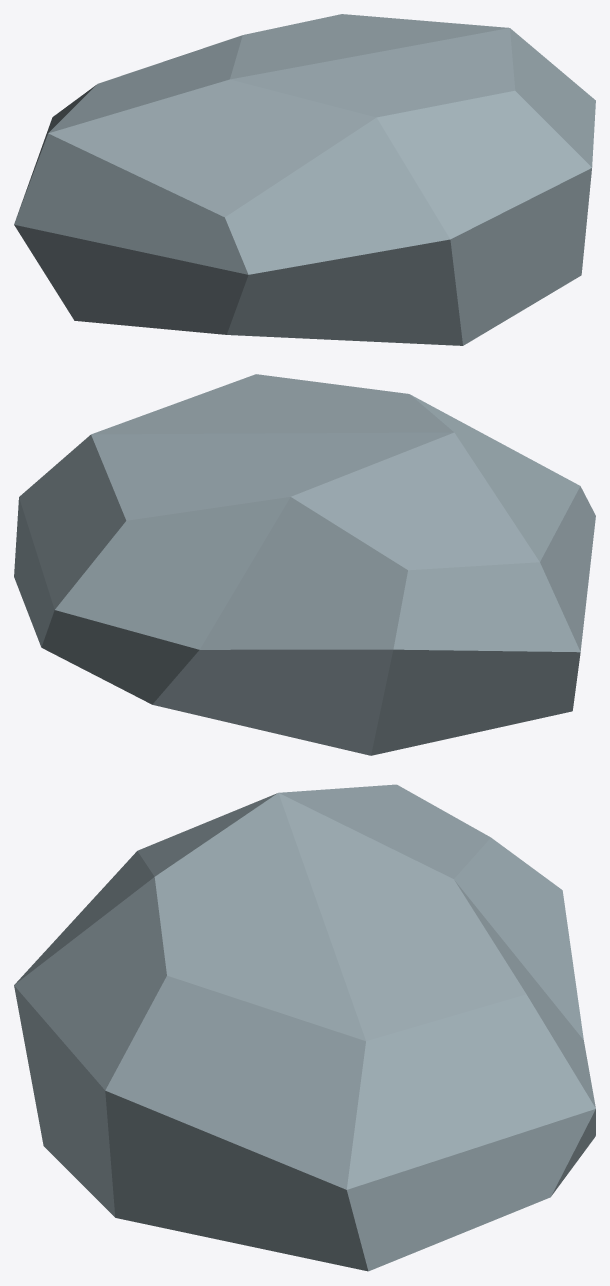
Rendered from Stein1.fbx.
The picture shows the model from 3 angles, top to bottom: view 1: azimuth 30°, elevation 25°; view 2: azimuth 150°, elevation 25°; view 3: azimuth 270°, elevation 25°; orthographic projection. The views are drawn at different scales.
Parts seen in each view (by area): view 1: Stein1; view 2: Stein1; view 3: Stein1.
Boxes of the visible parts, x1,y1,x2,y2 form: Stein1: (14,14,595,345); Stein1: (14,374,595,755); Stein1: (14,784,595,1271).
Bounding box in the file's own units: 3.05 × 1.18 × 2.27.
